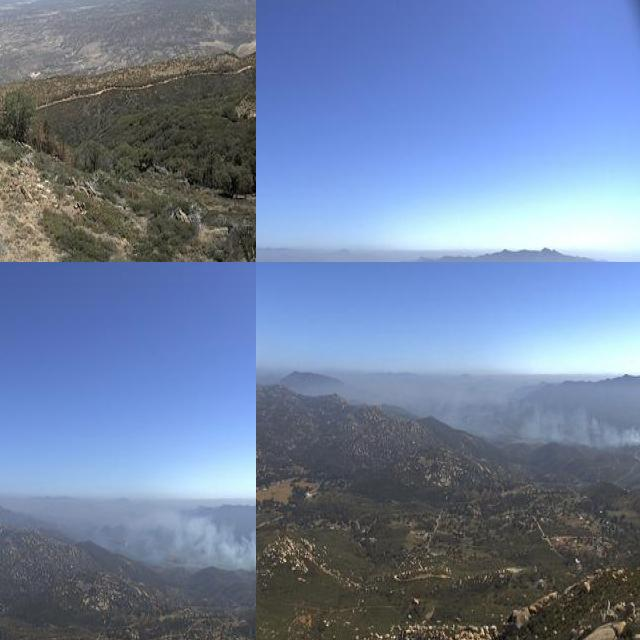smoke: (79, 495, 256, 576), (458, 386, 640, 452)
